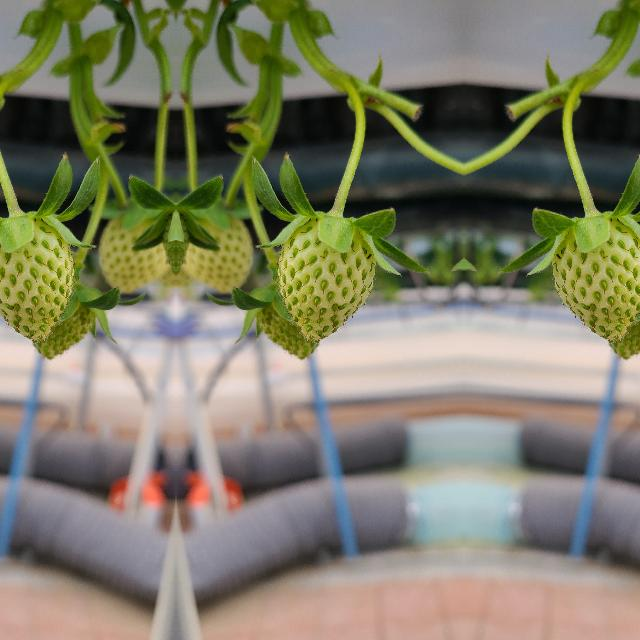Health_25: (276, 219, 374, 339), (552, 219, 640, 339), (0, 219, 73, 339)
